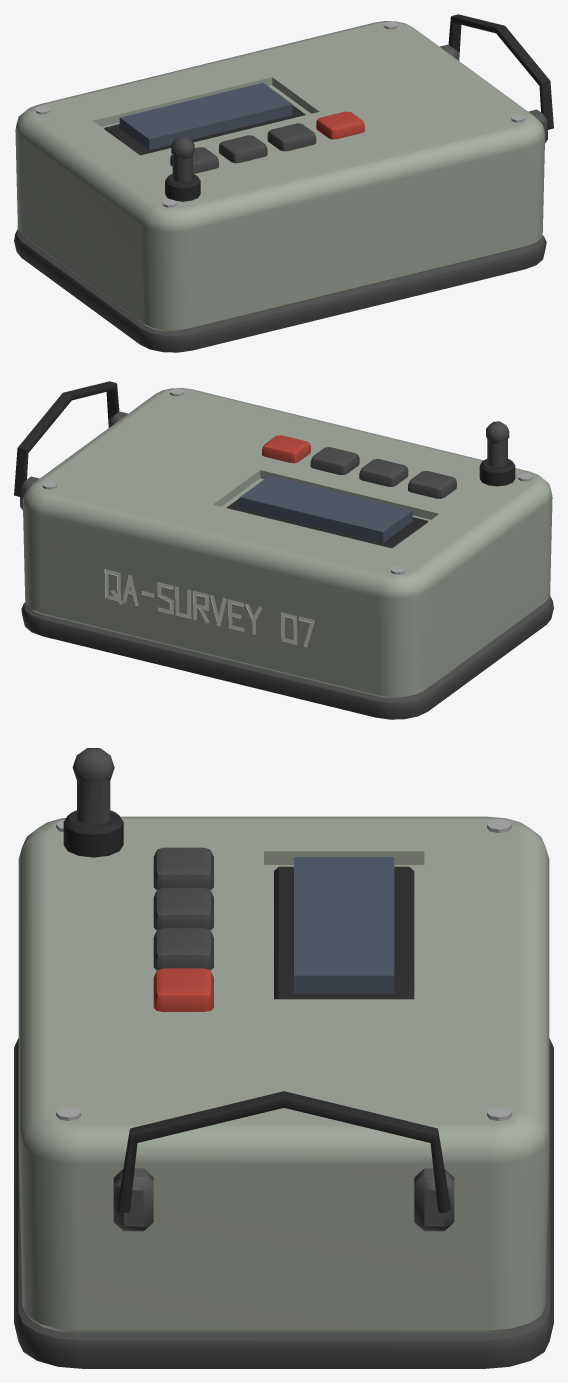
File: field_recorder.glb
3 views of the same model, one above another, from view 1: azimuth 30°, elevation 25°; view 2: azimuth 150°, elevation 25°; view 3: azimuth 270°, elevation 25° (orthographic). The views are drawn at different scales.
Visible parts, largest first — view 1: body, lcd; view 2: body, lcd; view 3: body, lcd.
Part boxes in pixels (left/top/right/bottom): body: left=14, top=14, right=553, bottom=352; lcd: left=104, top=82, right=305, bottom=155; body: left=14, top=381, right=553, bottom=719; lcd: left=226, top=475, right=428, bottom=548; body: left=14, top=748, right=553, bottom=1368; lcd: left=274, top=857, right=414, bottom=999.
Bounding box in the file's own units: 0.1668 × 0.073 × 0.1078.
